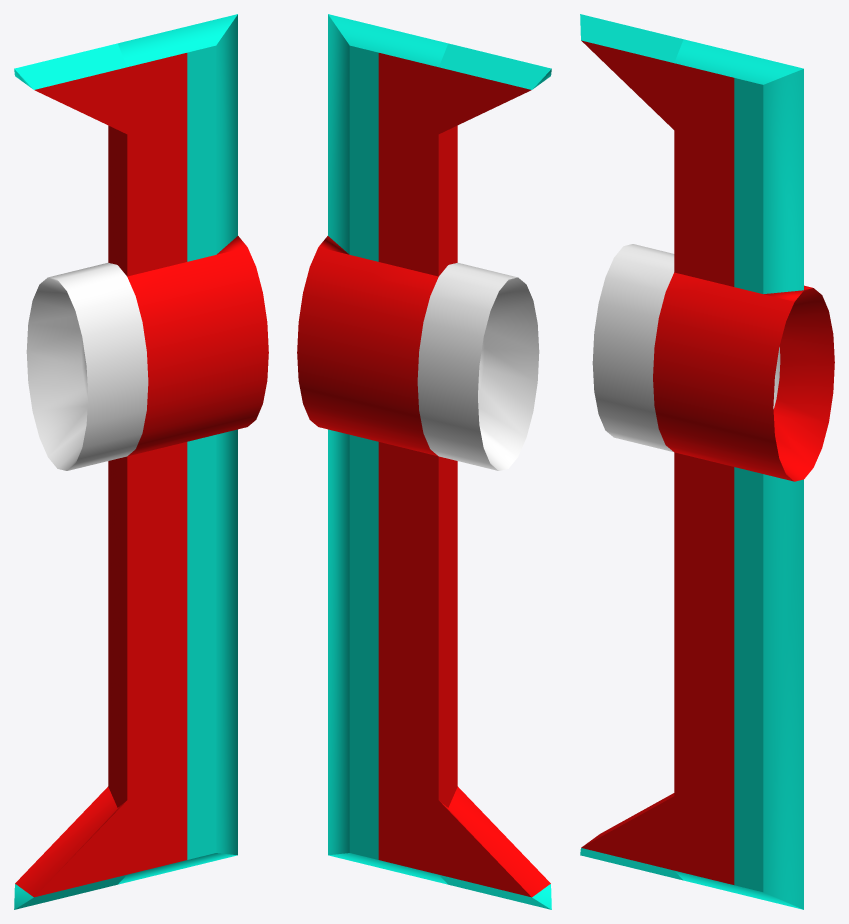
Rendered from battleship_05_incolor_02.fbx.
3 renders of one model, left to right at view 1: azimuth 30°, elevation 25°; view 2: azimuth 150°, elevation 25°; view 3: azimuth 330°, elevation 25°, orthographic.
Parts seen in each view (by area): view 1: pCylinder1; view 2: pCylinder1; view 3: pCylinder1.
Boxes of the visible parts, x1,y1,x2,y2 form: pCylinder1: [14, 14, 268, 909]; pCylinder1: [297, 14, 551, 909]; pCylinder1: [580, 14, 834, 909].
Size of the model in its own units: 2.48 by 8.9 by 1.18.
